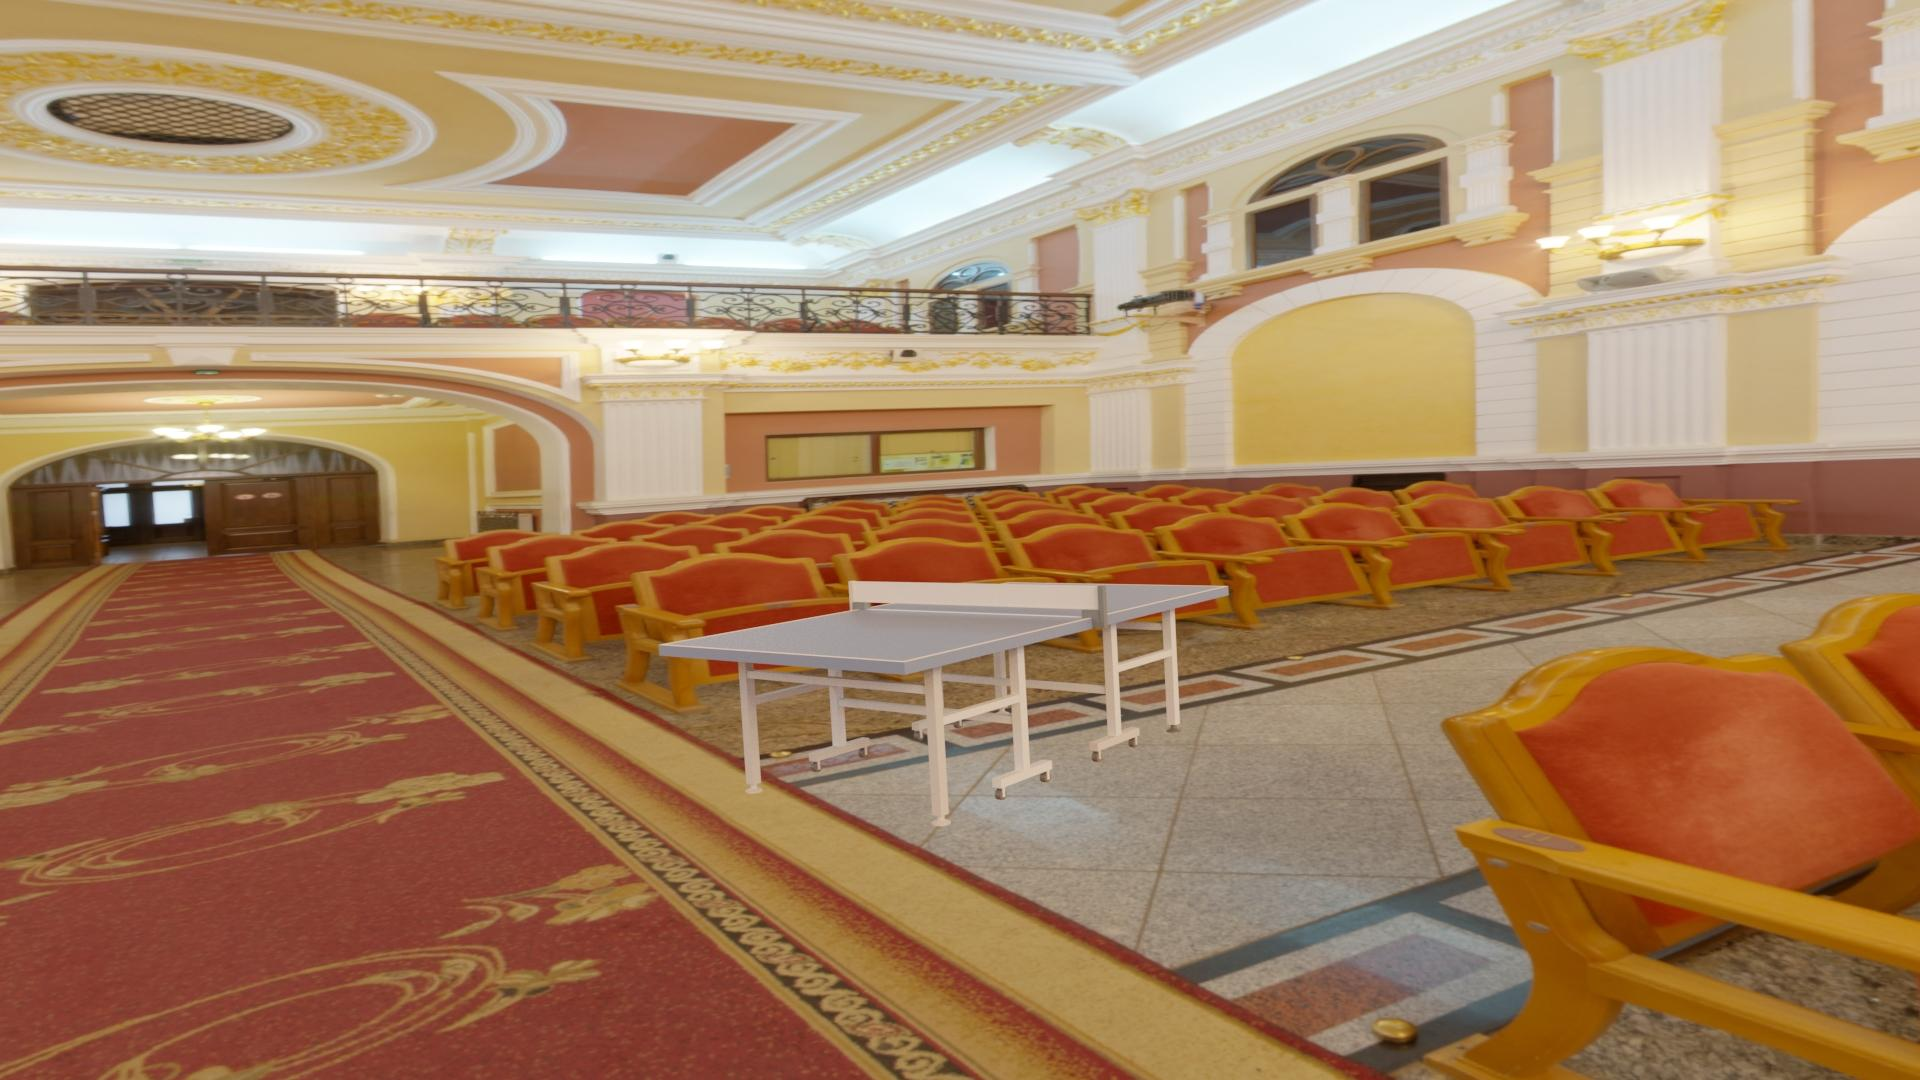table: (665, 583, 1224, 661)
